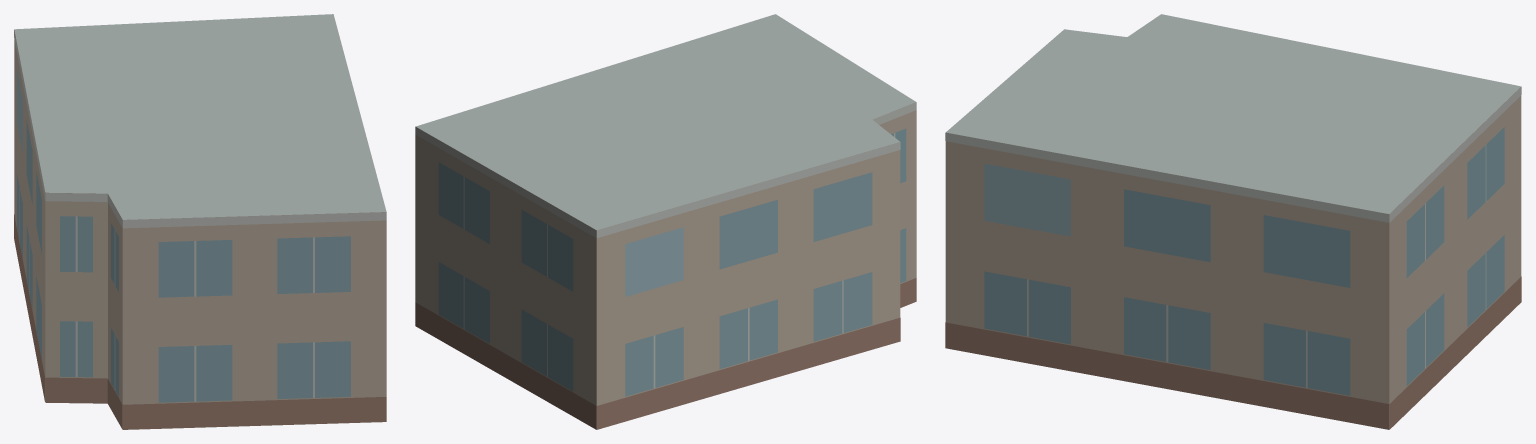
Rendered from survey-upis-32963407.glb.
3 views of the same model, side by side, from view 1: azimuth 30°, elevation 25°; view 2: azimuth 150°, elevation 25°; view 3: azimuth 270°, elevation 25° (orthographic). The views are drawn at different scales.
Visible parts, largest first — view 1: survey-upis-32963407.tmp; view 2: survey-upis-32963407.tmp; view 3: survey-upis-32963407.tmp.
Part boxes in pixels (x1,y1,x2,y2): survey-upis-32963407.tmp: [14, 14, 386, 429]; survey-upis-32963407.tmp: [415, 14, 916, 429]; survey-upis-32963407.tmp: [945, 14, 1521, 429].
Bounding box in the file's own units: 12.15 × 6.1 × 14.77.
